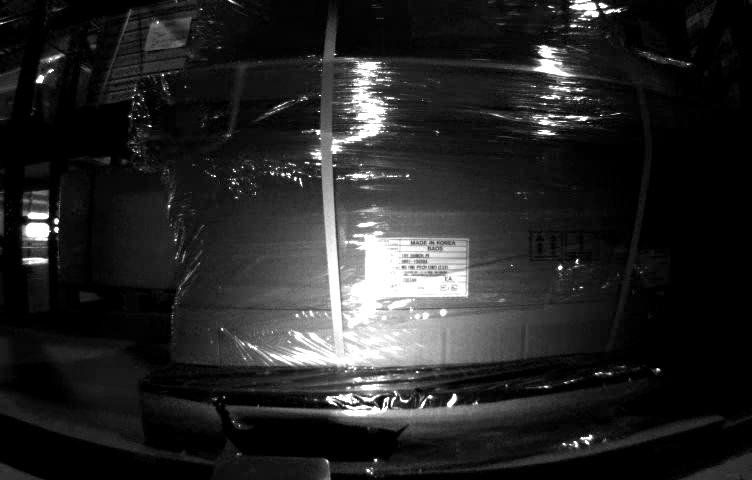True Barcode: (643, 248, 673, 288)
